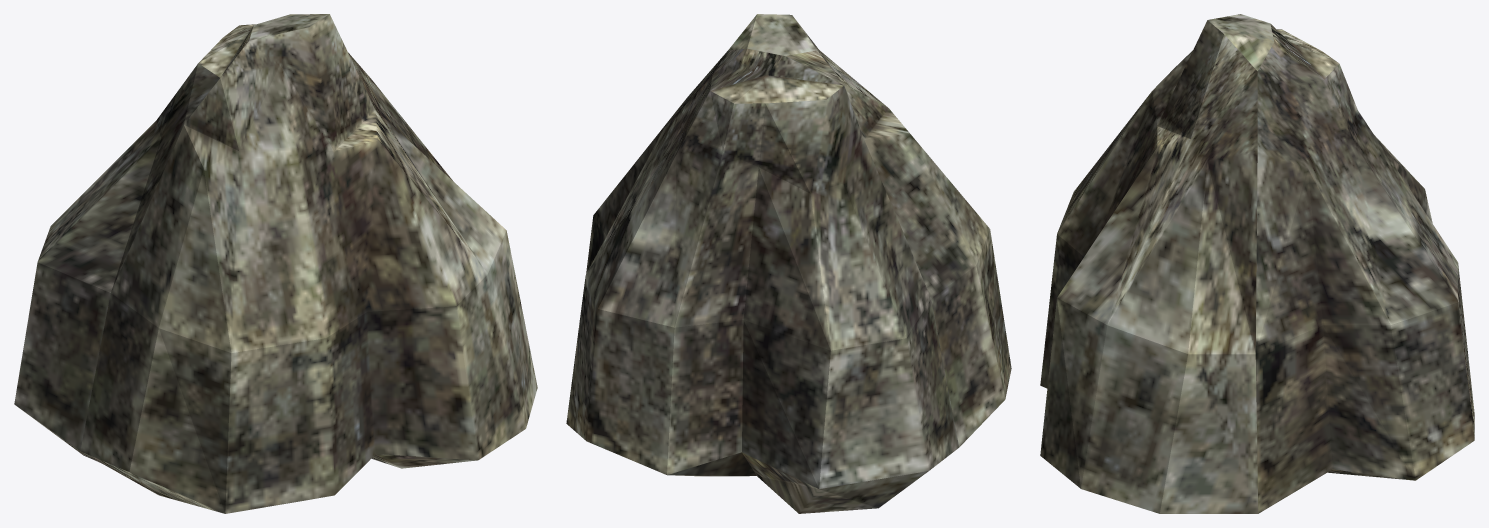
Rendered from Rock (DR).obj.
3 renders of one model, left to right at view 1: azimuth 30°, elevation 25°; view 2: azimuth 150°, elevation 25°; view 3: azimuth 270°, elevation 25°, orthographic. The views are drawn at different scales.
Parts seen in each view (by area): view 1: rdmobj01_model\om\om0; view 2: rdmobj01_model\om\om0; view 3: rdmobj01_model\om\om0.
Boxes of the visible parts, bbox=[...] form: rdmobj01_model\om\om0: bbox=[14, 14, 537, 513]; rdmobj01_model\om\om0: bbox=[566, 14, 1011, 513]; rdmobj01_model\om\om0: bbox=[1040, 14, 1474, 513].
Size of the model in its own units: 2.94 by 2.9 by 2.6.
